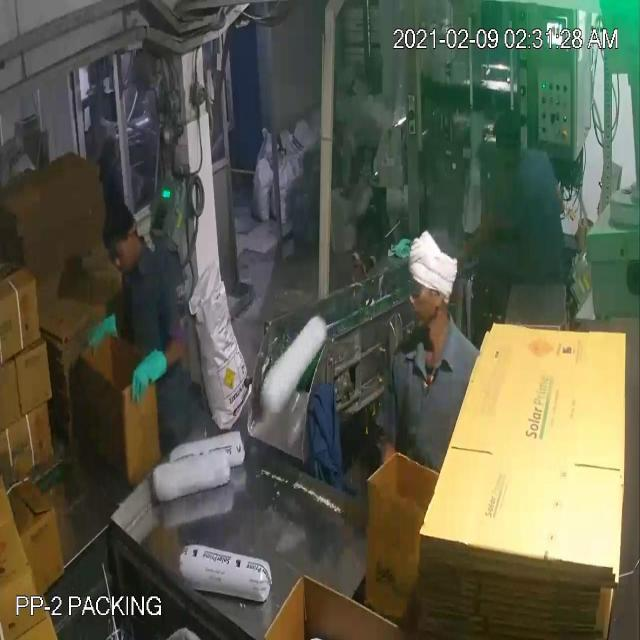Gloves: (56, 66, 150, 374)
